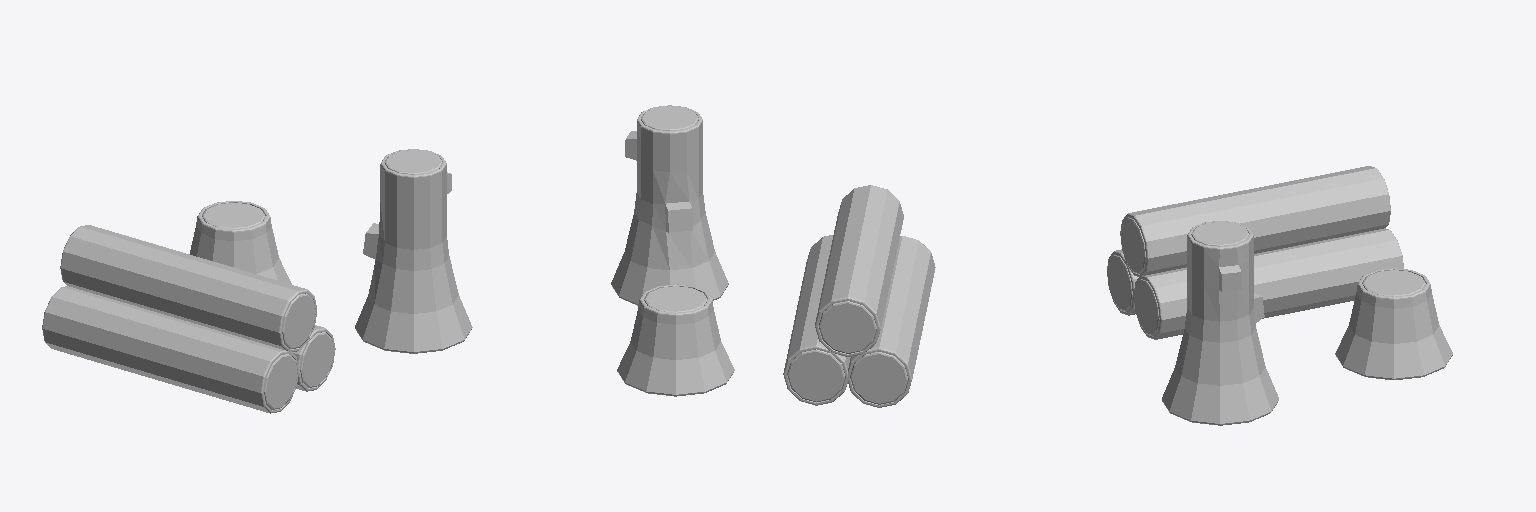
Rendered from Logging_Trees_Low.obj.
The picture shows the model from 3 angles: view 1: azimuth 30°, elevation 25°; view 2: azimuth 150°, elevation 25°; view 3: azimuth 270°, elevation 25°; orthographic projection.
Visible parts, largest first — view 1: large_stump, bark, bark_3, small_stump, center_3, center, center_2, center_4, center_5; view 2: large_stump, small_stump, bark_3, bark, bark_2, center, center_3, center_2, center_4, center_5; view 3: large_stump, bark_3, bark_2, small_stump, center_4, center_5, center, center_3, center_2.
Part boxes in pixels (bbox=[...]): large_stump: bbox=[355, 149, 472, 353]; bark: bbox=[42, 286, 298, 413]; bark_3: bbox=[60, 225, 316, 351]; small_stump: bbox=[190, 201, 291, 284]; center_3: bbox=[282, 293, 315, 348]; center: bbox=[264, 354, 297, 409]; center_2: bbox=[300, 332, 333, 387]; center_4: bbox=[202, 203, 265, 228]; center_5: bbox=[385, 150, 442, 174]; large_stump: bbox=[611, 105, 728, 305]; small_stump: bbox=[617, 284, 734, 396]; bark_3: bbox=[815, 185, 903, 356]; bark: bbox=[848, 236, 935, 407]; bark_2: bbox=[783, 235, 850, 405]; center: bbox=[850, 352, 907, 404]; center_3: bbox=[819, 301, 876, 353]; center_2: bbox=[787, 349, 844, 401]; center_4: bbox=[644, 286, 707, 312]; center_5: bbox=[641, 106, 698, 130]; large_stump: bbox=[1162, 221, 1278, 425]; bark_3: bbox=[1120, 166, 1390, 276]; bark_2: bbox=[1134, 228, 1403, 339]; small_stump: bbox=[1335, 268, 1452, 379]; center_4: bbox=[1362, 270, 1425, 296]; center_5: bbox=[1191, 222, 1249, 246]; center: bbox=[1108, 255, 1132, 311]; center_3: bbox=[1121, 217, 1145, 273]; center_2: bbox=[1134, 279, 1159, 335].
Bounding box in the file's own units: 116 × 52.52 × 96.83.